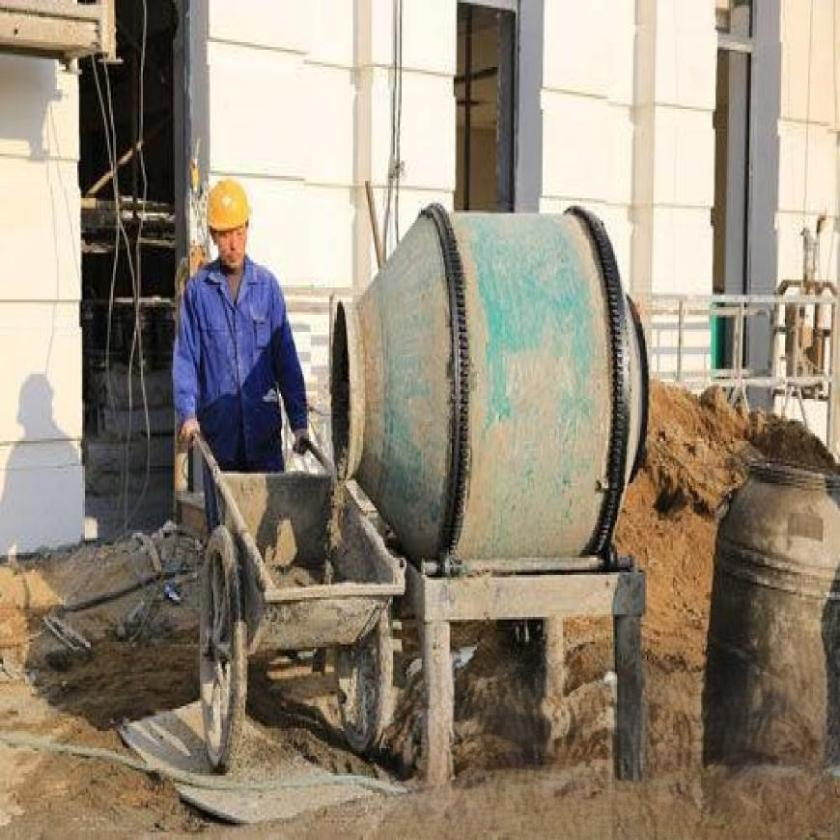Con_casco: (201, 171, 263, 271)
